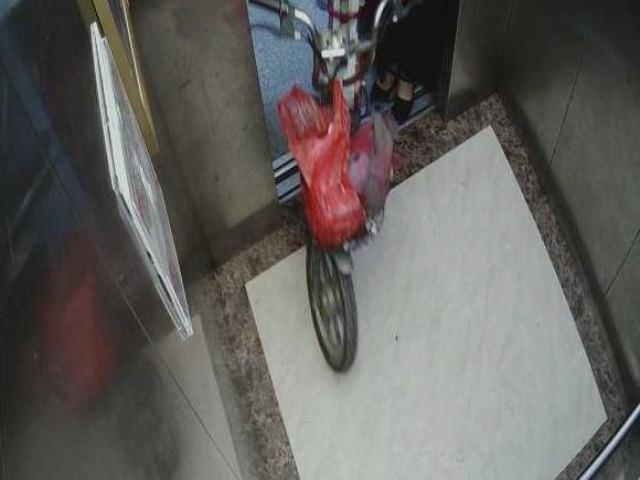emotor: (251, 1, 394, 378)
